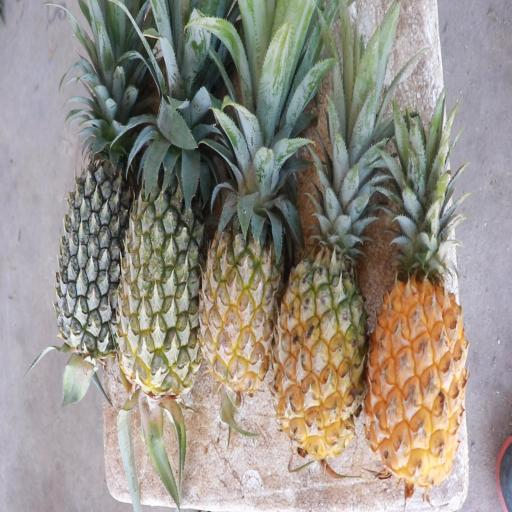------------------------------: (119, 125, 203, 391)
Pineapple - v8 v1: (369, 227, 468, 478), (280, 214, 364, 456), (202, 161, 280, 387)
